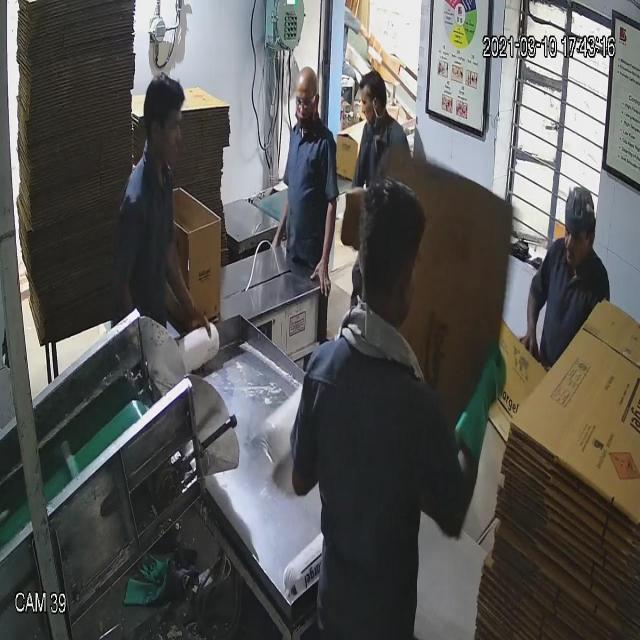No_Gloves: (34, 104, 538, 412)
